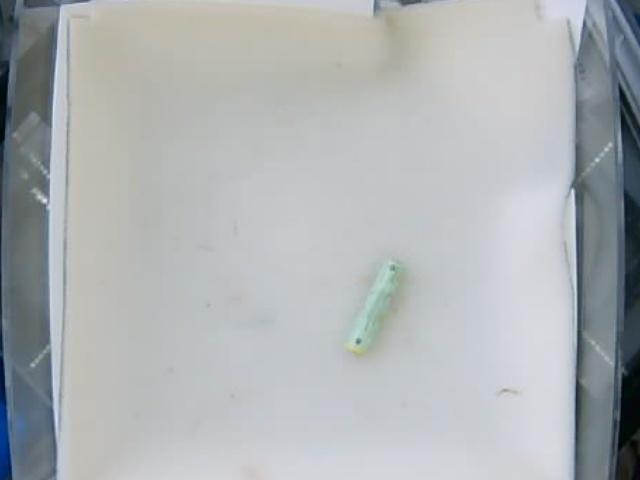Battery: (339, 258, 406, 357)
